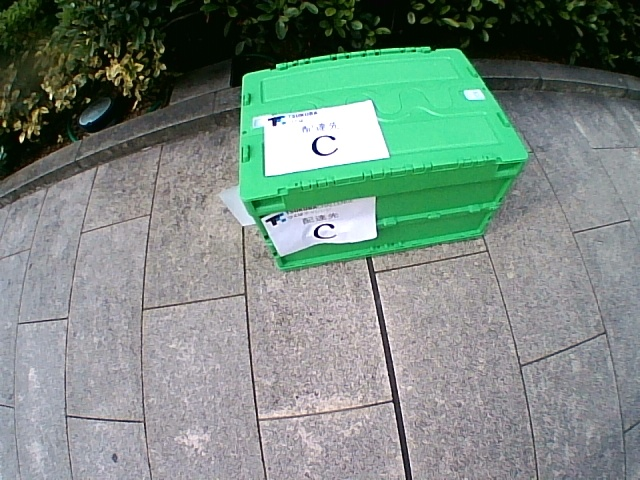blue_box: (239, 46, 528, 271)
tag_c: (279, 114, 377, 162), (288, 211, 372, 242)
